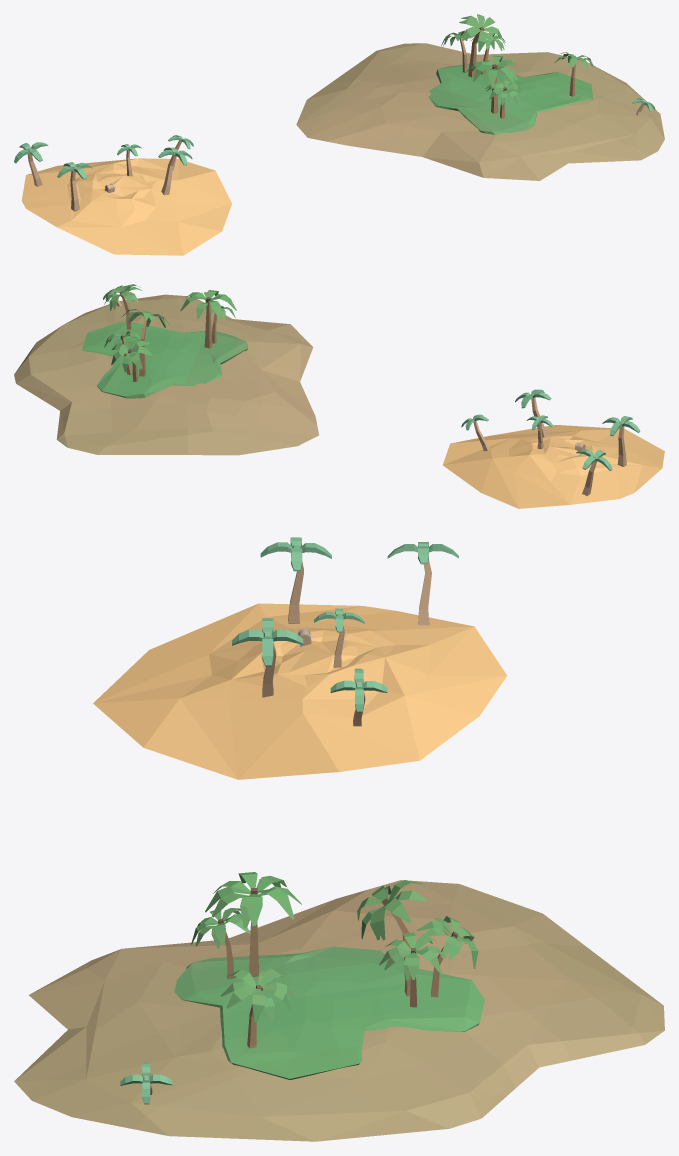
File: island.gltf
3 views of the same model, one above another, from view 1: azimuth 30°, elevation 25°; view 2: azimuth 150°, elevation 25°; view 3: azimuth 270°, elevation 25° (orthographic). The views are drawn at different scales.
Parts seen in each view (by area): view 1: islandMesh, ground; view 2: islandMesh, ground, leaves (×2); view 3: islandMesh, ground, leaves (×3).
Part boxes in pixels (x1,y1,x2,y2): islandMesh: (296, 14, 664, 180); ground: (21, 158, 231, 255); islandMesh: (14, 284, 318, 455); ground: (443, 425, 664, 508); leaves (×2): (576, 416, 640, 470); islandMesh: (14, 872, 664, 1141); ground: (93, 603, 507, 779); leaves (×3): (232, 537, 387, 712).
Bounding box in the file's own units: 94.6 × 13.33 × 49.93.
6 materials, 1 textured.
